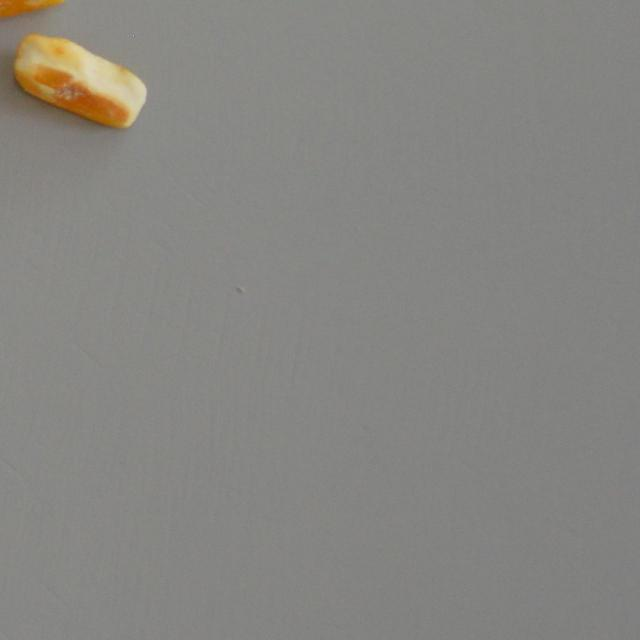dañado: (6, 29, 152, 134), (0, 0, 72, 26)
